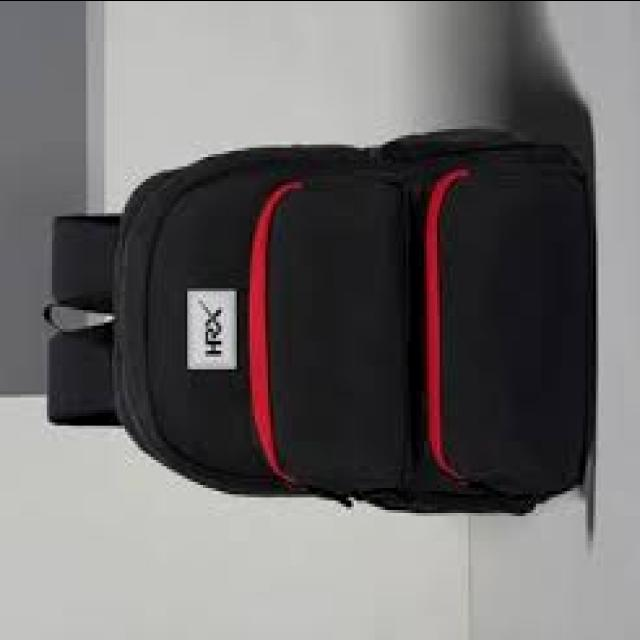backpack: (43, 129, 595, 519)
